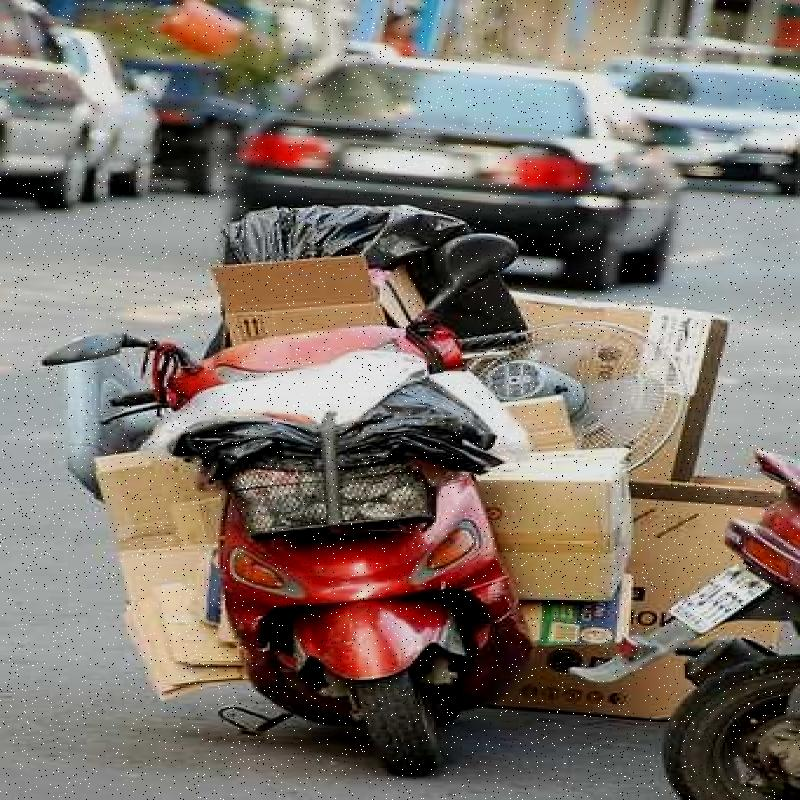bike: (80, 253, 534, 764)
